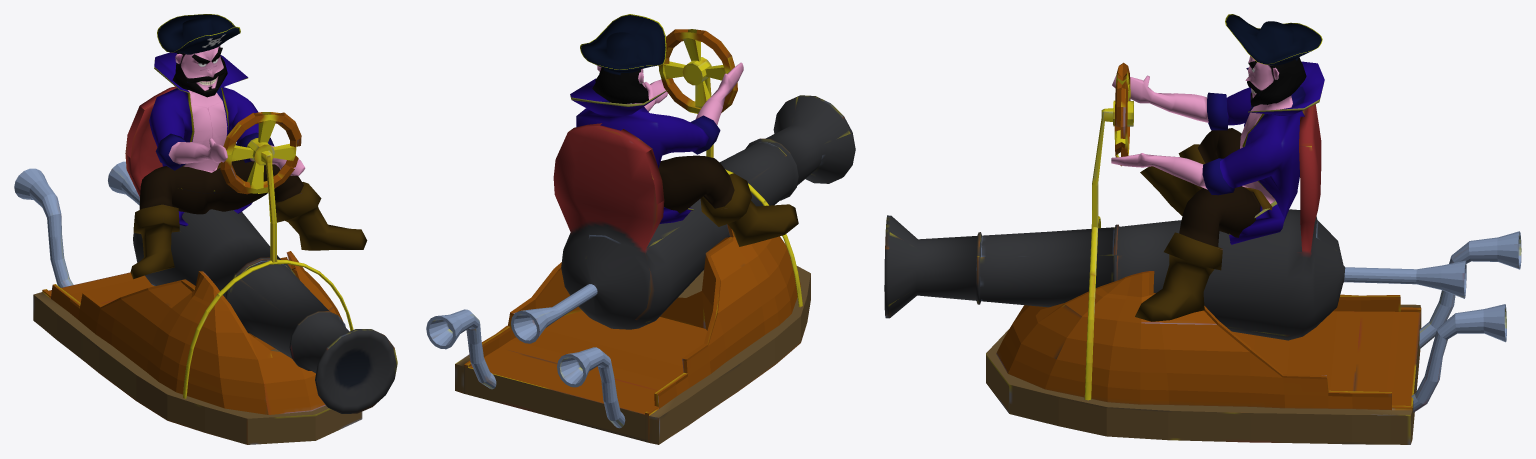
The model's file is pirataGiroDER_000554.obj.
3 views of the same model, side by side, from view 1: azimuth 30°, elevation 25°; view 2: azimuth 150°, elevation 25°; view 3: azimuth 270°, elevation 25° (orthographic). The views are drawn at different scales.
Visible parts, largest first — view 1: carro_pirata, Pirata_PirataH; view 2: carro_pirata, Pirata_PirataH; view 3: carro_pirata, Pirata_PirataH.
Boxes of the visible parts, x1=… form: carro_pirata: x1=14, y1=86, x2=397, y2=444; Pirata_PirataH: x1=130, y1=14, x2=367, y2=279; carro_pirata: x1=426, y1=29, x2=855, y2=444; Pirata_PirataH: x1=570, y1=14, x2=798, y2=246; carro_pirata: x1=884, y1=62, x2=1521, y2=444; Pirata_PirataH: x1=1111, y1=14, x2=1324, y2=321.
Bounding box in the file's own units: 5.7 × 7.71 × 12.1.
Materials: 2 (2 with a texture image).
